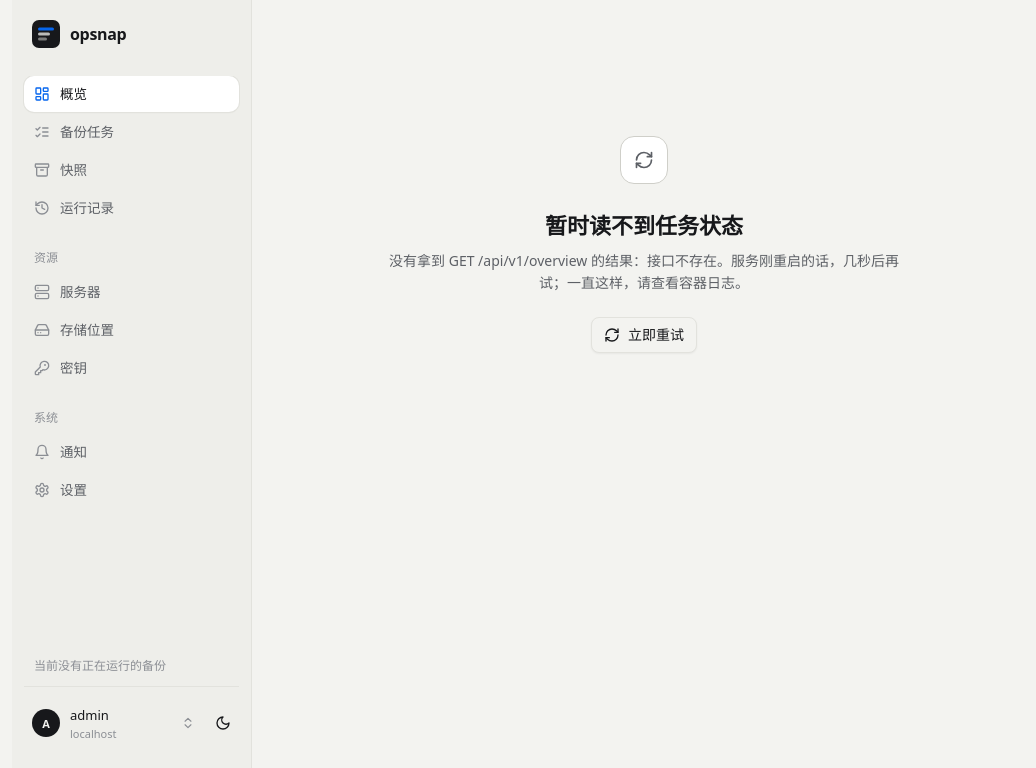
it: 面板外壳 › 账号菜单可以退出登录
What coordinates should you click on to do the following:
click the button with aria-label "账号菜单"
I would click on:
 (114, 723)
Its box is [24,699,203,748].
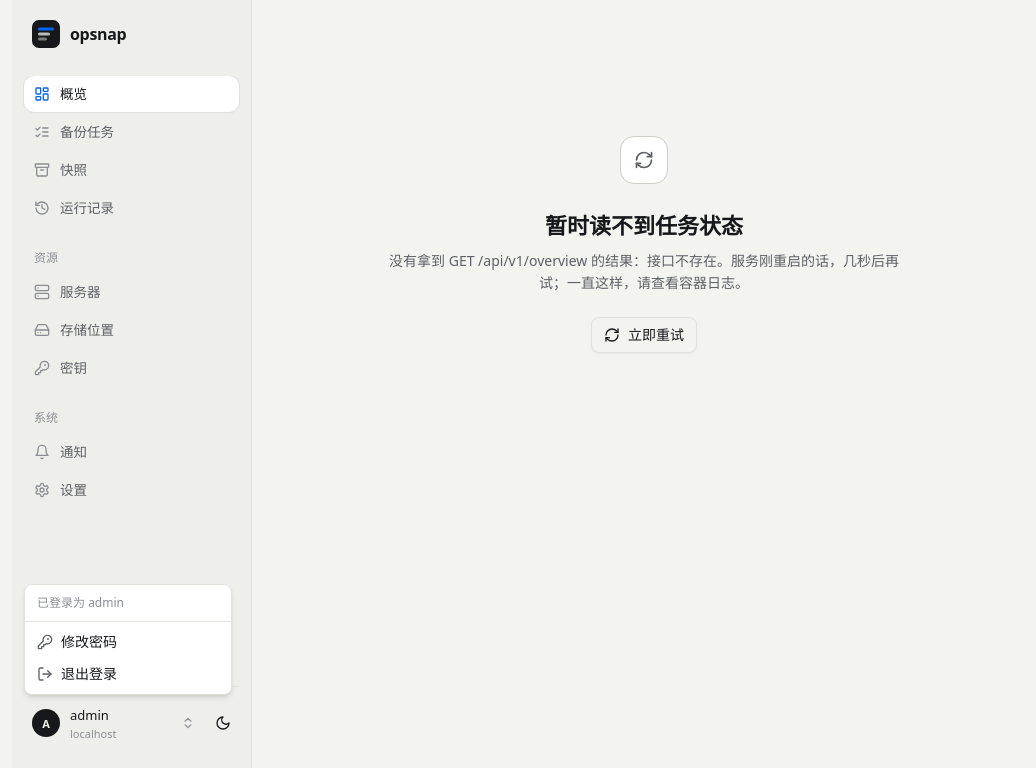
What coordinates should you click on to do the following:
click the menu item "退出登录"
I would click on:
 (77, 674)
Its box is [37,664,117,683].
(page scrolled)
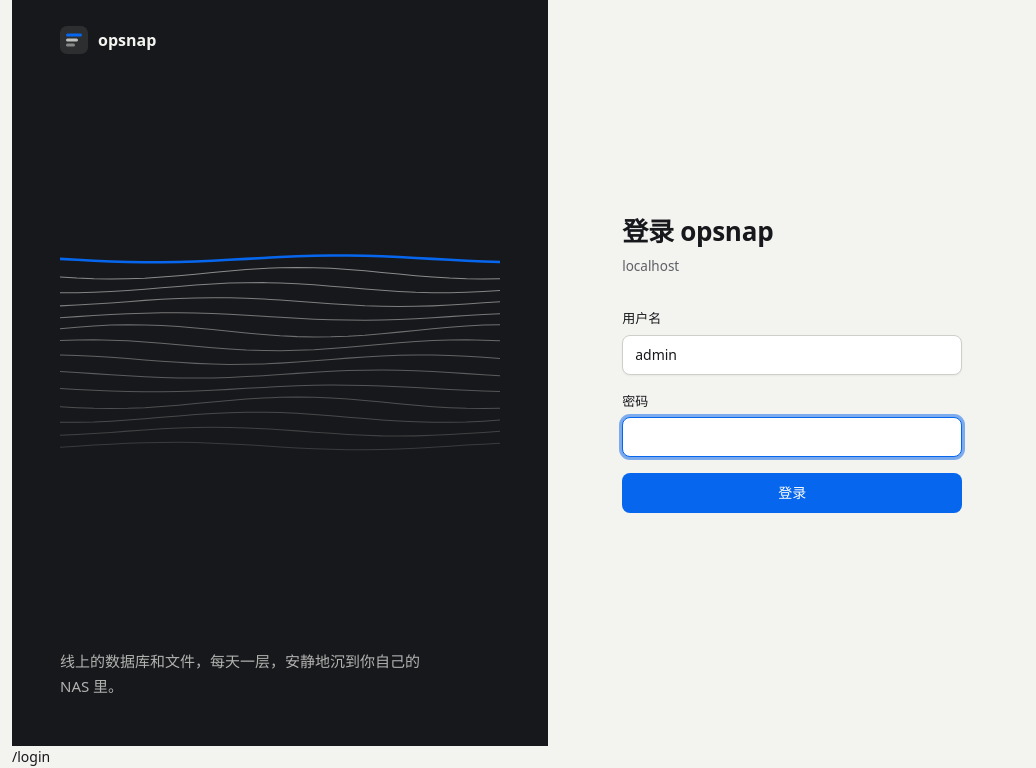
Result: the text with test id "location" reads "/login" at [12,747,50,766]
